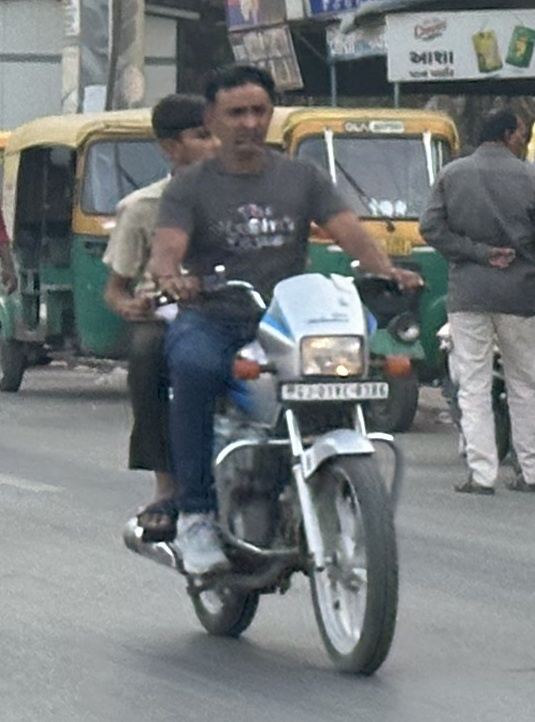BikeWithRider: (93, 56, 435, 684)
NoHelmet: (196, 58, 286, 170), (141, 85, 224, 181)
